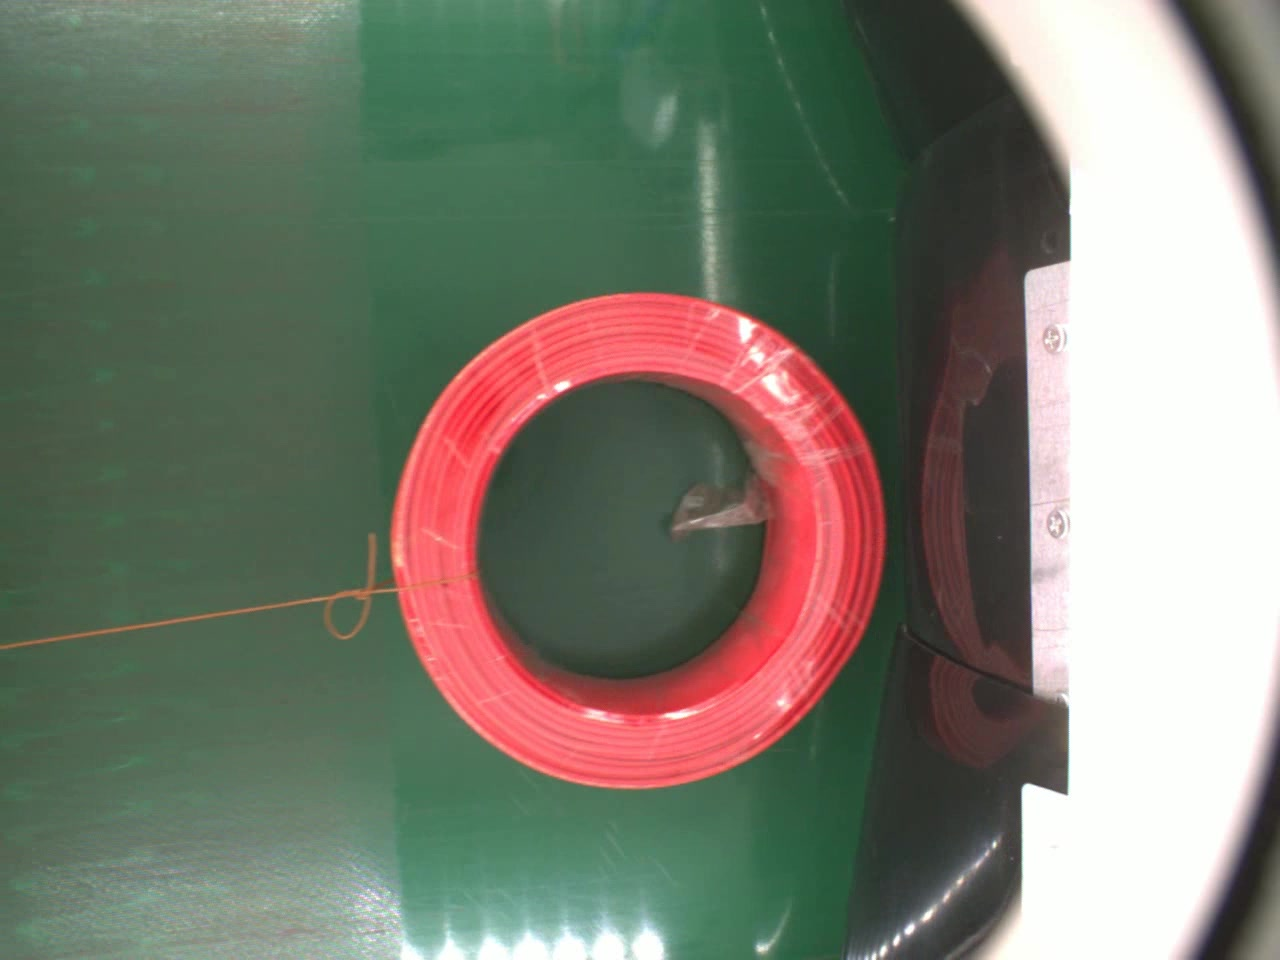red: (385, 288, 888, 787)
